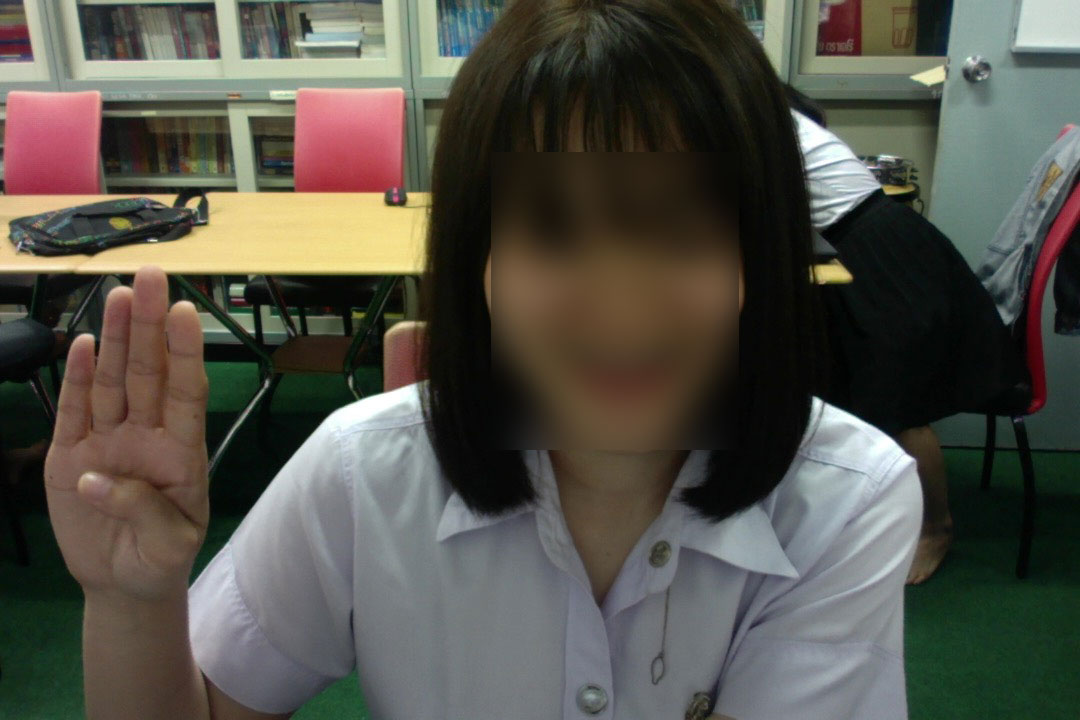bor: (41, 259, 214, 616)
